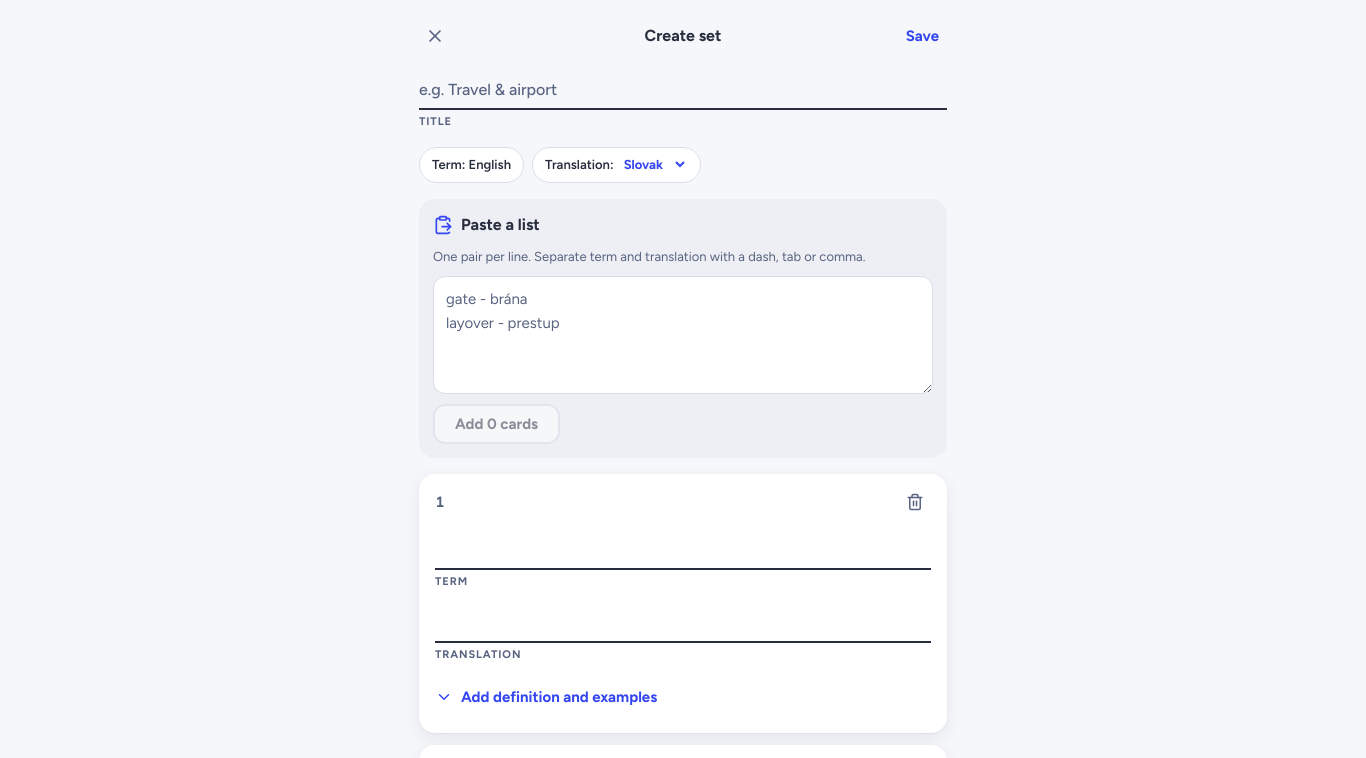
Scenario: SetEditorPage leaving and saving › Keep editing dismisses the prompt, stays on the page and keeps the changes
In the field labelled "Title": {"x": 683, "y": 91} [419,72,947,110], type "Draft"
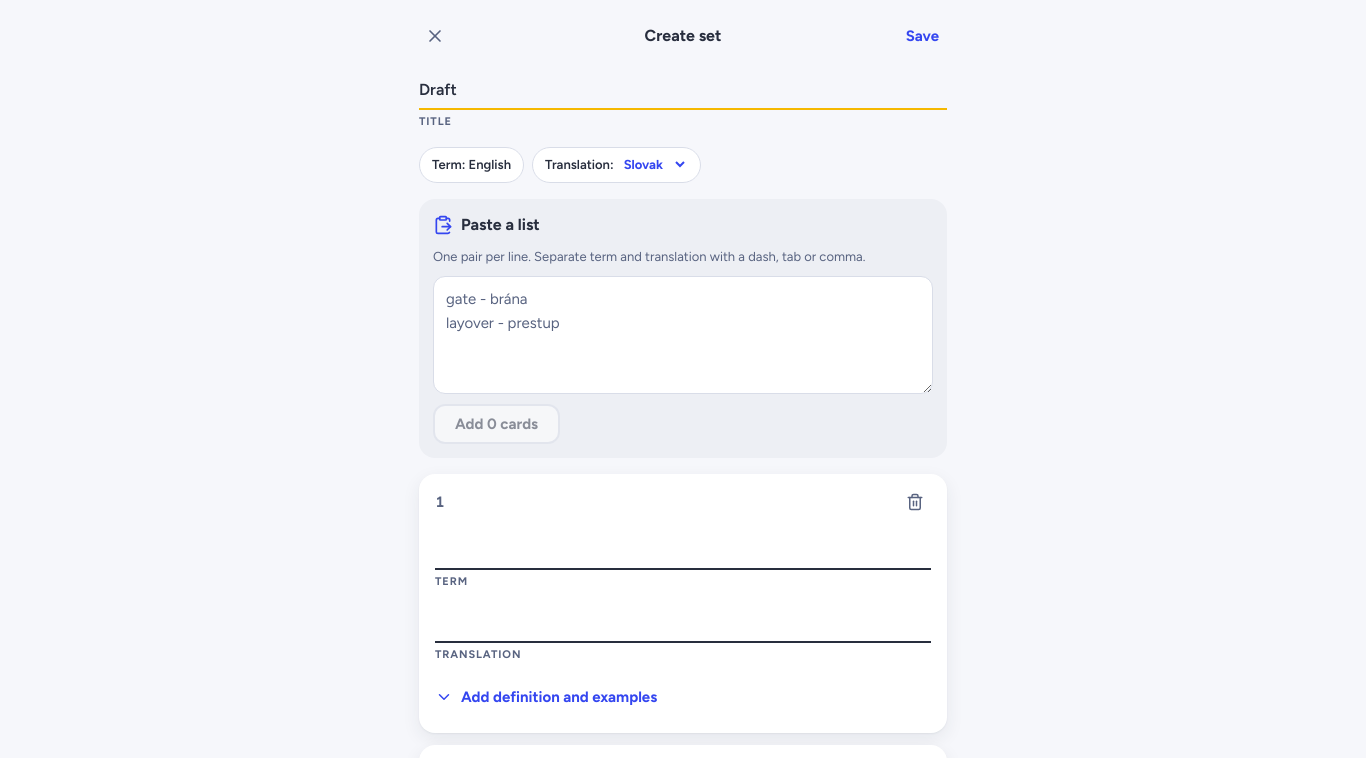
Click the button named "Close": {"x": 435, "y": 36} [415,16,455,56]
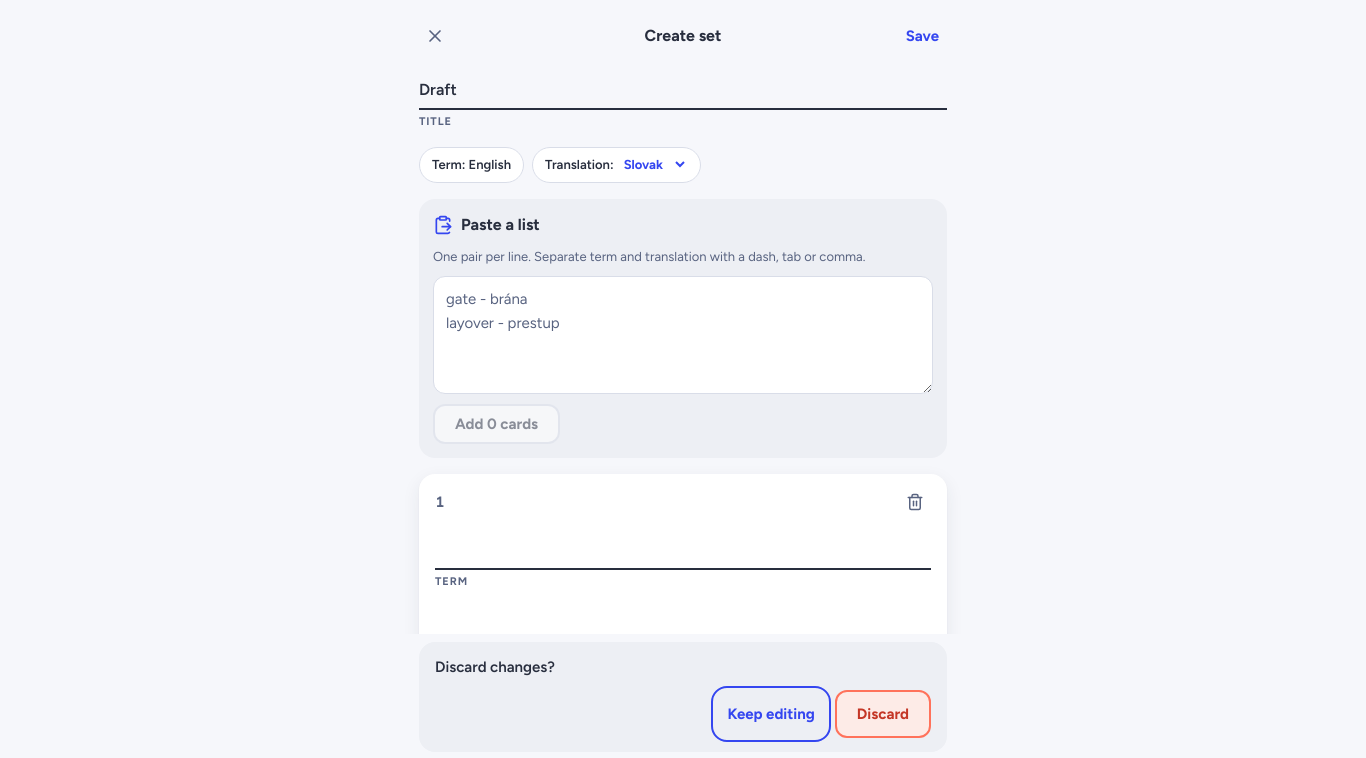
Click the button "Keep editing": {"x": 771, "y": 714} [715,690,827,738]
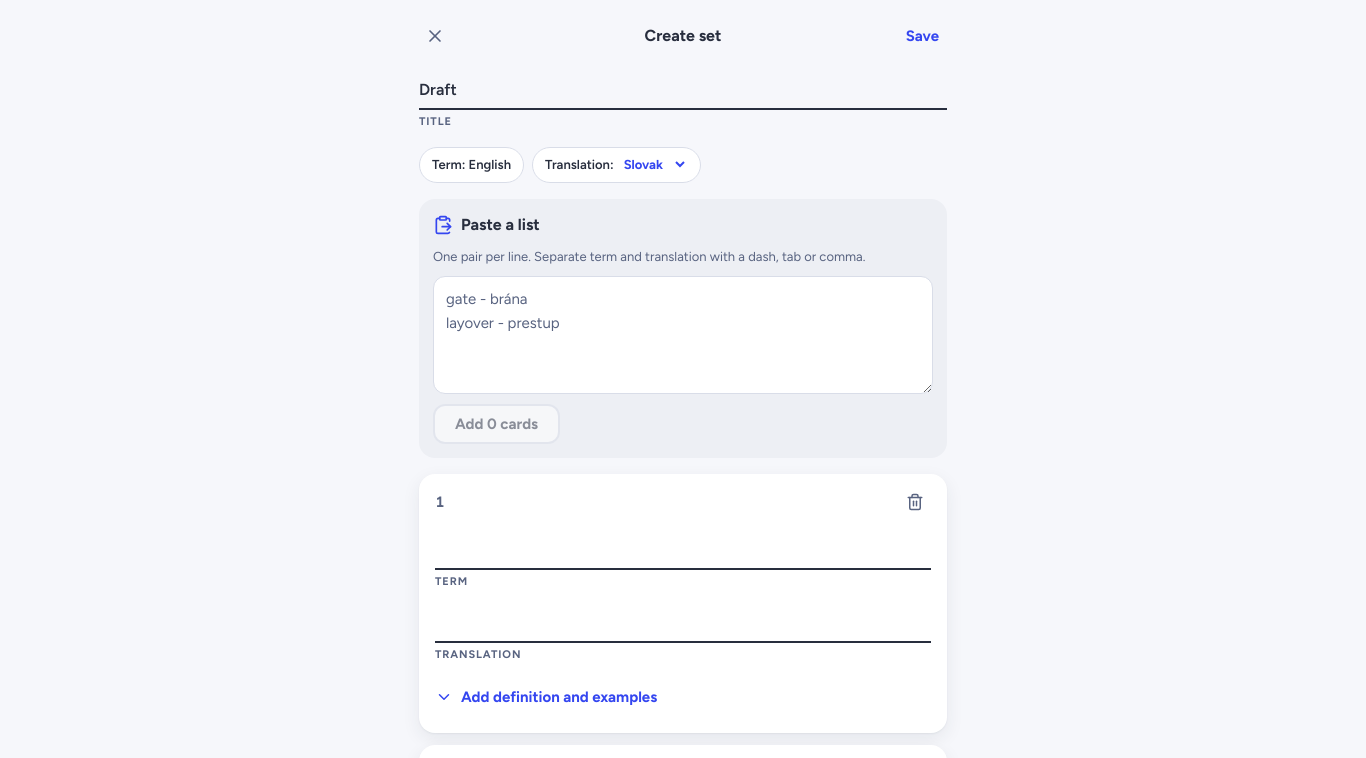
Now the text "Discard changes?" is gone
